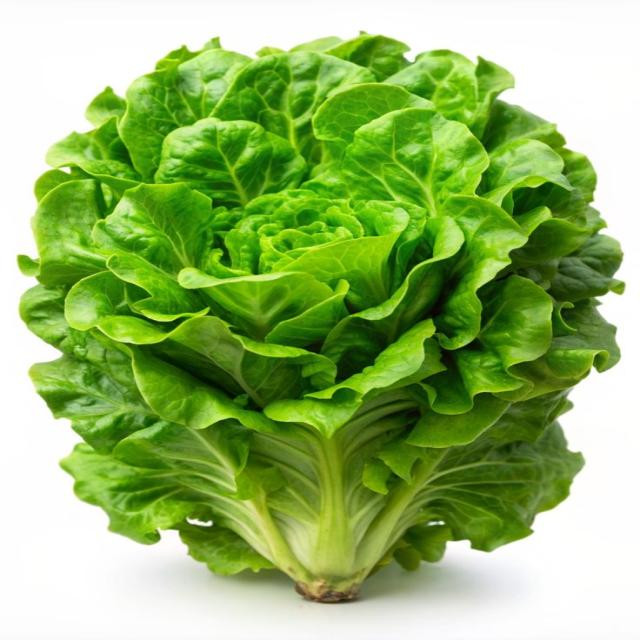lettuce: (20, 34, 621, 602)
